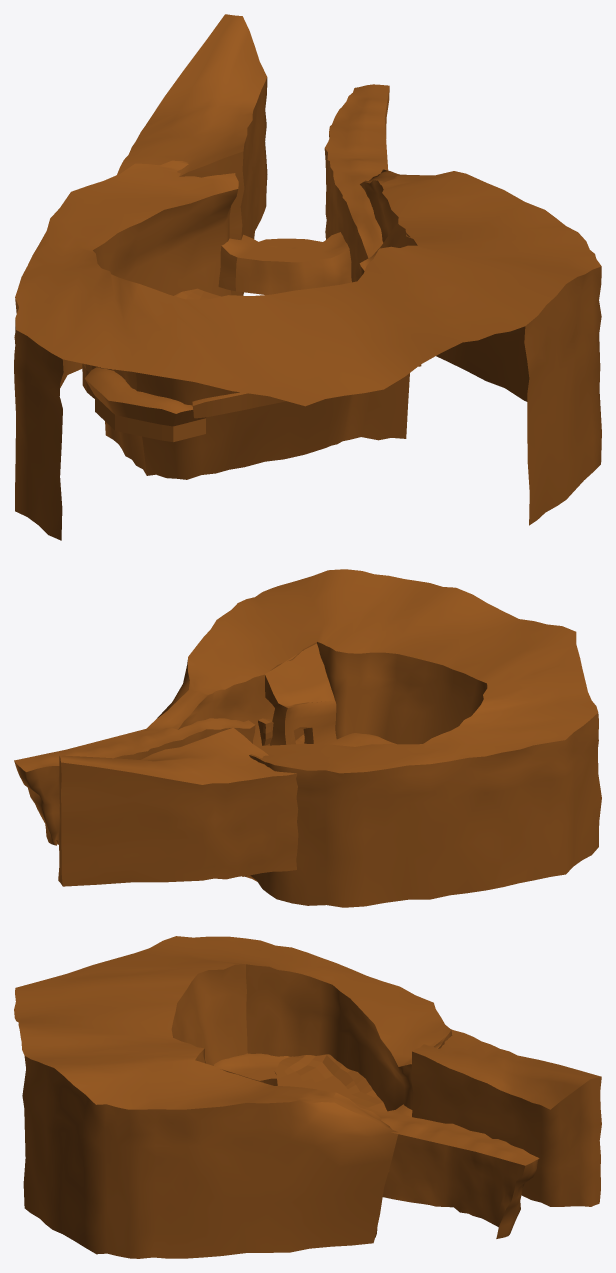
The model's file is Zone7Final.FBX.
3 renders of one model, top to bottom at view 1: azimuth 30°, elevation 25°; view 2: azimuth 150°, elevation 25°; view 3: azimuth 270°, elevation 25°, orthographic. The views are drawn at different scales.
Parts seen in each view (by area): view 1: New_Game_Object_025, New_Game_Object_024, New_Game_Object_11, New_Game_Object_019, New_Game_Object_027, New_Game_Object__2_001; view 2: New_Game_Object_025, New_Game_Object_024, New_Game_Object_11, New_Game_Object_8, New_Game_Object__2_001, New_Game_Object_6; view 3: New_Game_Object_025, New_Game_Object_024, New_Game_Object_11, New_Game_Object_18, New_Game_Object_027.
Boxes of the visible parts, x1=… form: New_Game_Object_025: x1=14, y1=160, x2=601, y2=540; New_Game_Object_024: x1=117, y1=14, x2=267, y2=295; New_Game_Object_11: x1=324, y1=84, x2=389, y2=282; New_Game_Object_019: x1=218, y1=232, x2=351, y2=294; New_Game_Object_027: x1=85, y1=367, x2=206, y2=442; New_Game_Object__2_001: x1=192, y1=392, x2=286, y2=418; New_Game_Object_025: x1=144, y1=569, x2=601, y2=907; New_Game_Object_024: x1=58, y1=727, x2=298, y2=886; New_Game_Object_11: x1=14, y1=718, x2=255, y2=845; New_Game_Object_8: x1=265, y1=643, x2=336, y2=745; New_Game_Object__2_001: x1=330, y1=733, x2=396, y2=746; New_Game_Object_6: x1=258, y1=718, x2=304, y2=745; New_Game_Object_025: x1=14, y1=936, x2=452, y2=1258; New_Game_Object_024: x1=411, y1=1029, x2=601, y2=1206; New_Game_Object_11: x1=369, y1=1110, x2=539, y2=1238; New_Game_Object_18: x1=274, y1=1054, x2=387, y2=1112; New_Game_Object_027: x1=214, y1=1053, x2=289, y2=1085.
Size of the model in its own units: 27501 by 10161 by 33000.
